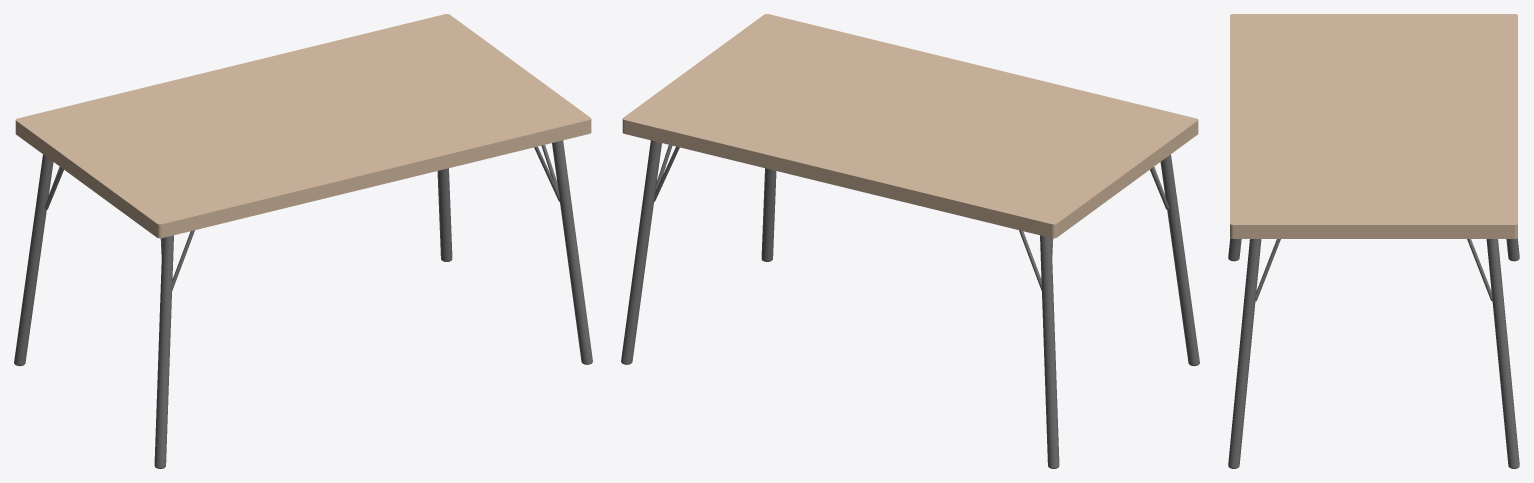
Rendered from 567_ダイニングテーブル4人掛け.glb.
3 views of the same model, side by side, from view 1: azimuth 30°, elevation 25°; view 2: azimuth 150°, elevation 25°; view 3: azimuth 270°, elevation 25° (orthographic).
Visible parts, largest first — view 1: Body; view 2: Body; view 3: Body.
Boxes of the visible parts, bbox=[...] form: Body: bbox=[14, 14, 592, 468]; Body: bbox=[621, 14, 1199, 468]; Body: bbox=[1228, 14, 1519, 468].
Bounding box in the file's own units: 1.31 × 0.7 × 0.759.
